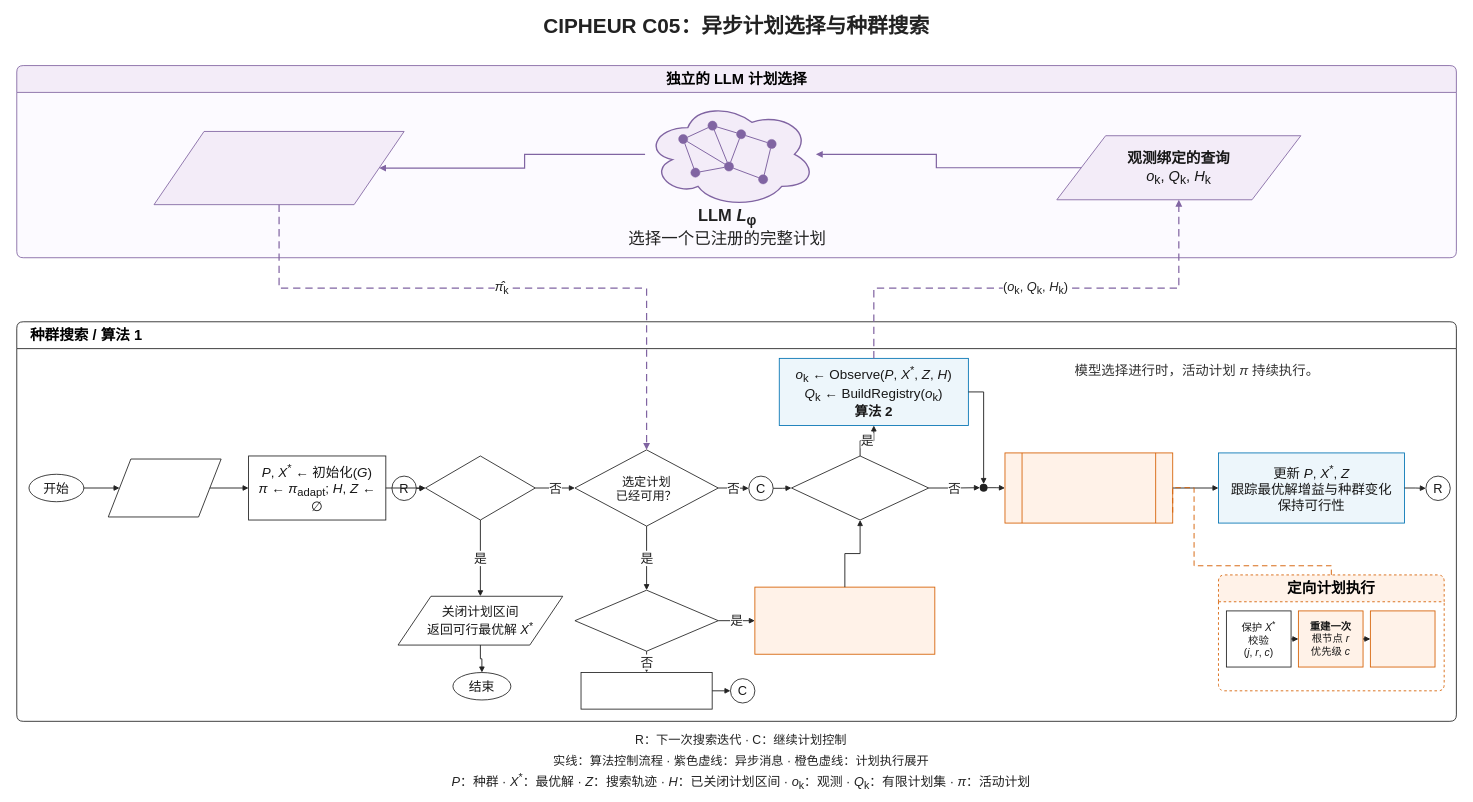
The diagram is 1473 pixels wide and 802 high, and some of its shapes have lost their labels. The centre of each missing label's shape, as x and y in pixels:
AdvancePlan ( G , P , X * , π ) 算法 3: the point at 1088,487
H ← H || 关闭上一计划区间 π ← Resolve( π̂ k , Q k ) 打开新计划的反馈区间: the point at 844,620
I → ( G , w ) 资源元数据: the point at 164,487
恢复搜索 spread / merge: the point at 1402,638
满足 终止条件？: the point at 480,487
满足新决策条件 且无待返回选择？: the point at 860,487
绑定的计划选择 π̂ k = L φ ( o k , Q k , H k ) 计划 ID 与观测绑定: the point at 278,168
继续活动计划 π: the point at 646,690
选择绑定与 描述符均合法？: the point at 646,620
